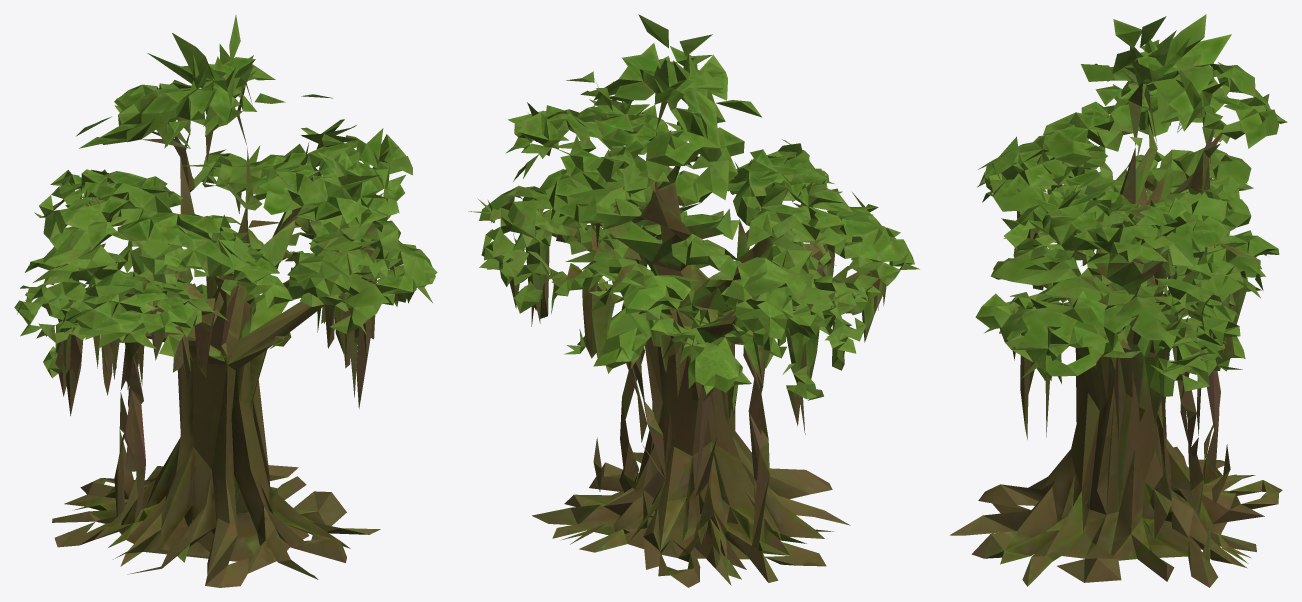
The model's file is scene_strangler_fig.glb.
3 renders of one model, left to right at view 1: azimuth 30°, elevation 25°; view 2: azimuth 150°, elevation 25°; view 3: azimuth 270°, elevation 25°, orthographic. The views are drawn at different scales.
Size of the model in its own units: 1.55 by 1.9 by 1.1.
Materials: 1 (1 with a texture image).
